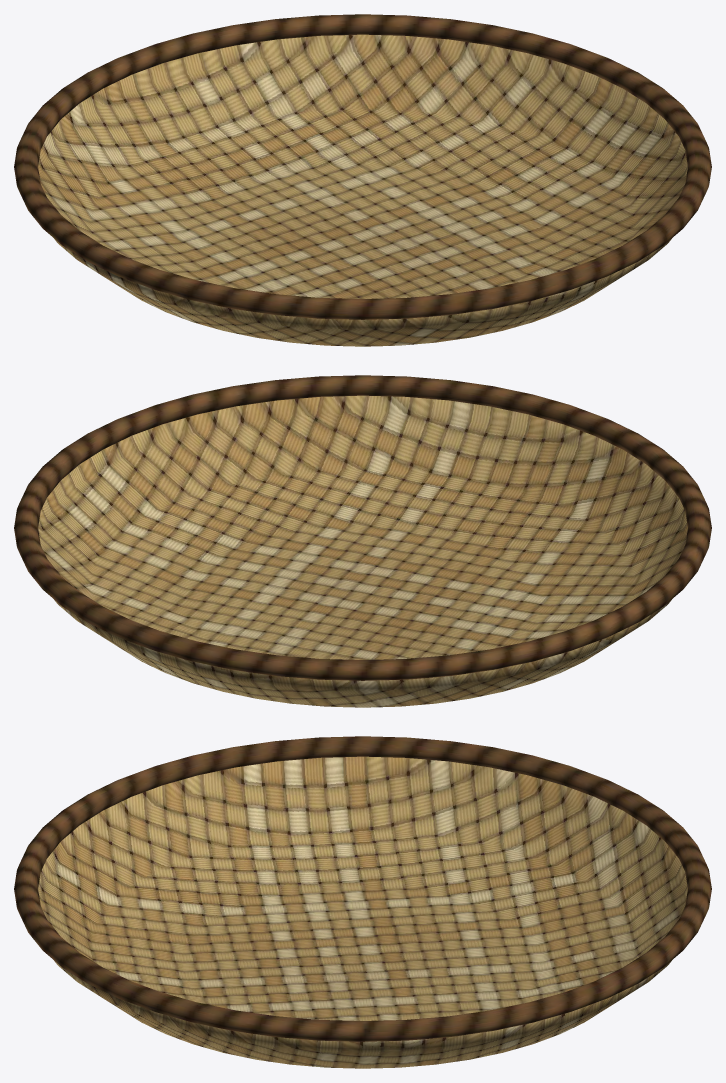
The model's file is zaru.glb.
3 views of the same model, one above another, from view 1: azimuth 30°, elevation 25°; view 2: azimuth 150°, elevation 25°; view 3: azimuth 270°, elevation 25° (orthographic).
Visible parts, largest first — view 1: ZaruBowl, ZaruRim; view 2: ZaruBowl, ZaruRim; view 3: ZaruBowl, ZaruRim.
Part boxes in pixels (box(x1,y1,x2,y2)): ZaruBowl: box(38, 34, 687, 346); ZaruRim: box(14, 14, 711, 319); ZaruBowl: box(38, 395, 687, 707); ZaruRim: box(14, 375, 711, 680); ZaruBowl: box(38, 756, 687, 1068); ZaruRim: box(14, 736, 711, 1041).
Bounding box in the file's own units: 0.9844 × 0.1397 × 0.9844.
2 materials, 2 textured.
